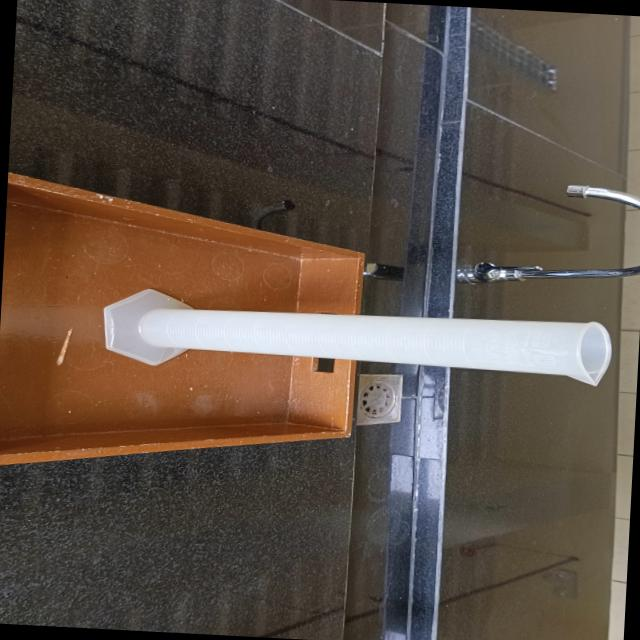graduated_cylinder: (92, 284, 618, 392)
